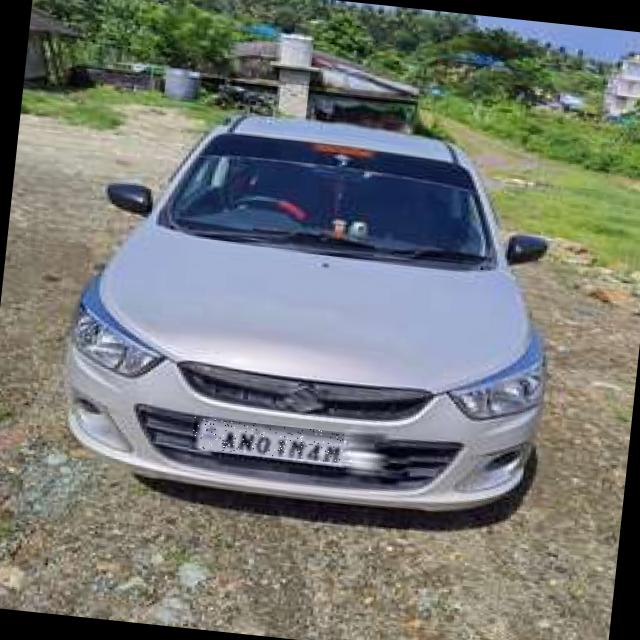Plate: (192, 417, 345, 464)
